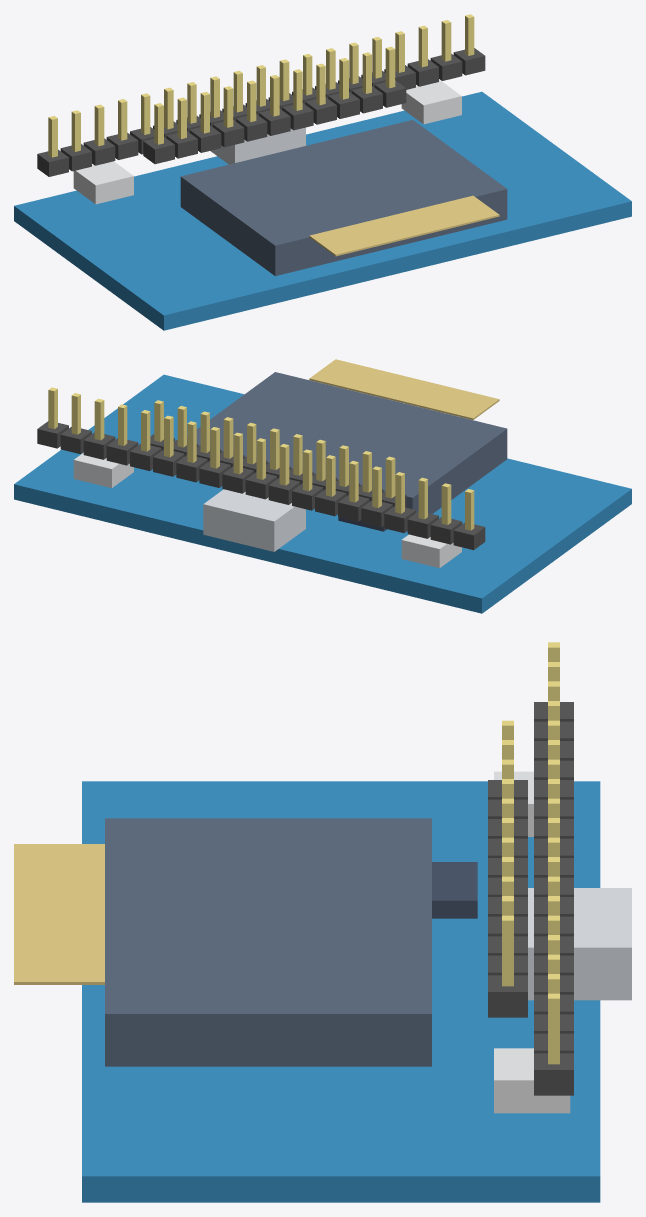
The model's file is esp32.glb.
The picture shows the model from 3 angles, top to bottom: view 1: azimuth 30°, elevation 25°; view 2: azimuth 150°, elevation 25°; view 3: azimuth 270°, elevation 25°; orthographic projection. The views are drawn at different scales.
Visible parts, largest first — view 1: esp32-devkit-v1_mesh; view 2: esp32-devkit-v1_mesh; view 3: esp32-devkit-v1_mesh.
Boxes of the visible parts, <box> form: esp32-devkit-v1_mesh: <box>14,14,631,330</box>; esp32-devkit-v1_mesh: <box>14,359,631,613</box>; esp32-devkit-v1_mesh: <box>14,642,631,1202</box>.
Bounding box in the file's own units: 51.4 × 11.2 × 34.
